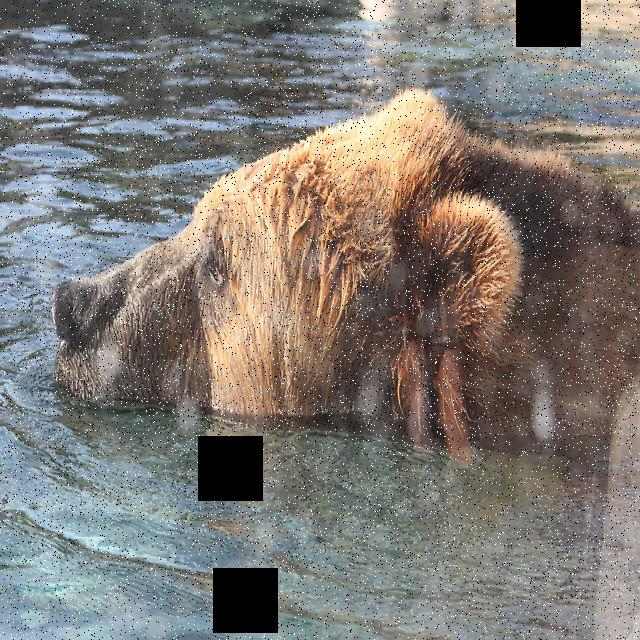Bear: (50, 72, 640, 454)
